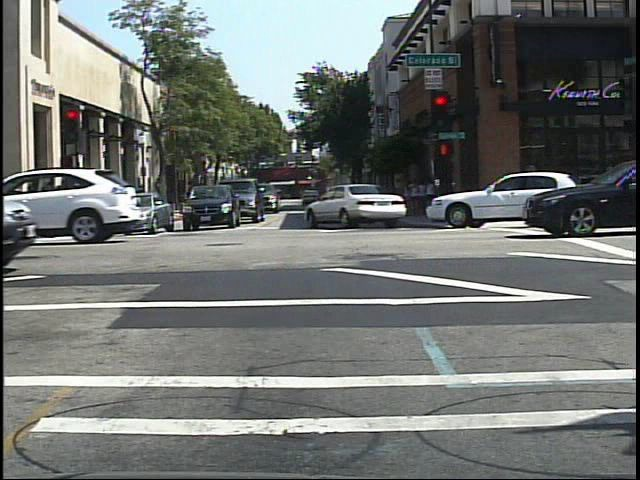person: (115, 181, 133, 220)
